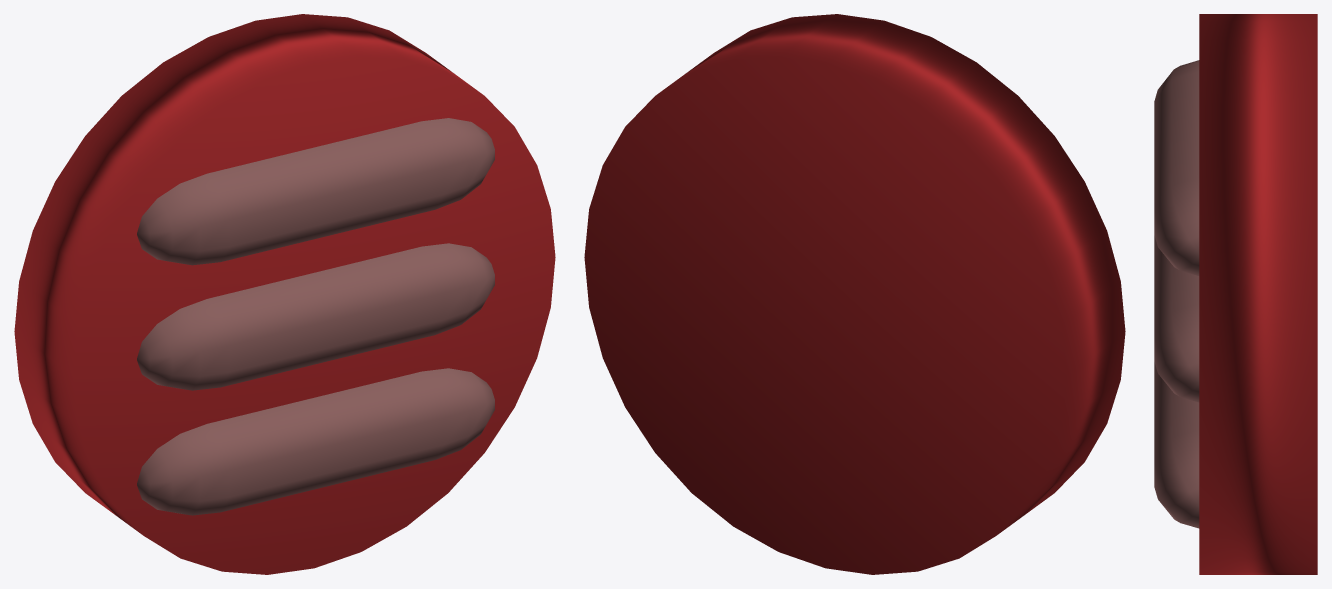
File: menu.glb
The picture shows the model from 3 angles, left to right: view 1: azimuth 30°, elevation 25°; view 2: azimuth 150°, elevation 25°; view 3: azimuth 270°, elevation 25°; orthographic projection.
Parts seen in each view (by area): view 1: Cylinder.001; view 2: Cylinder.001; view 3: Cylinder.001.
Boxes of the visible parts, <box> form: Cylinder.001: <box>14,14,555,574</box>; Cylinder.001: <box>584,14,1125,574</box>; Cylinder.001: <box>1154,14,1317,574</box>.
Size of the model in its own units: 0.1614 by 0.1614 by 0.047.
